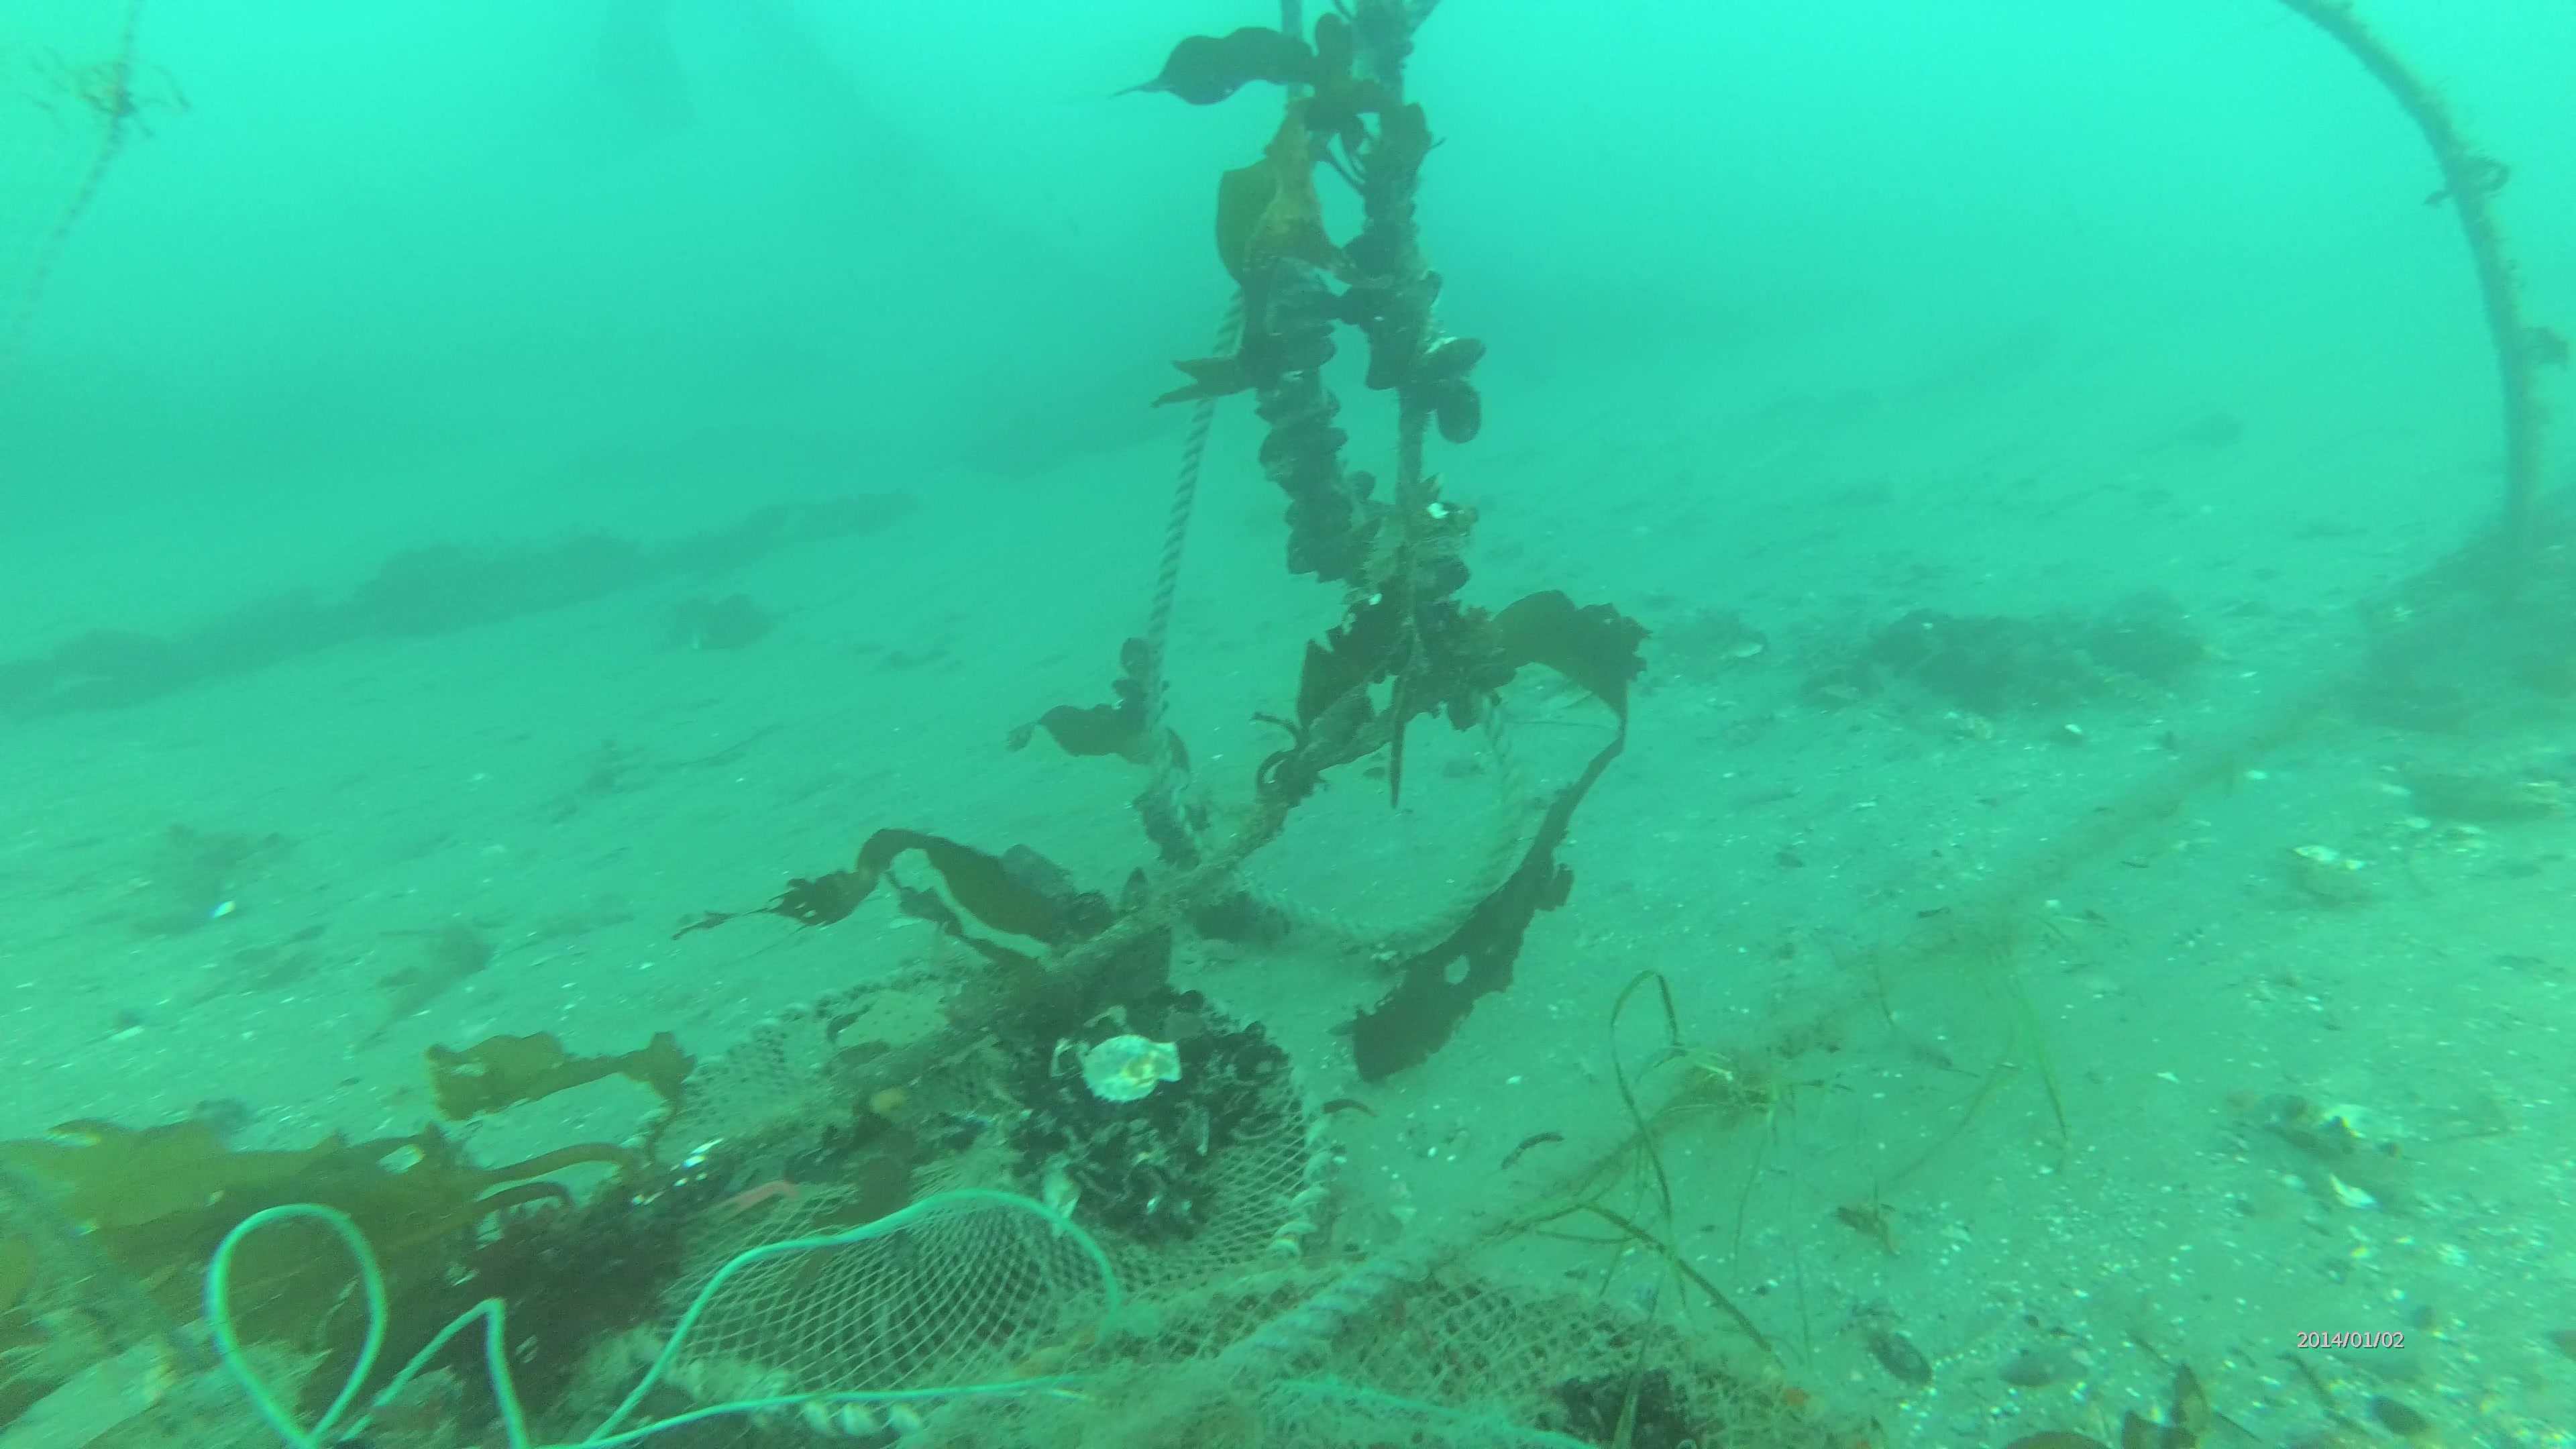scallop: (1083, 1024, 1189, 1097)
